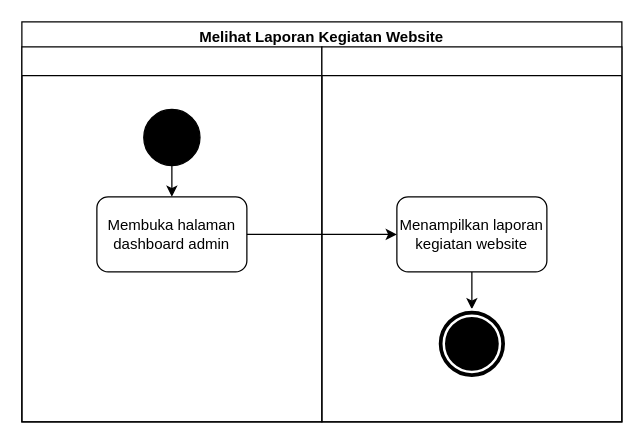
The diagram is 644 pixels wide and 444 high, and some of its shapes have lost their labels. Each missing label, with the box of its shape:
Sistem: (321, 46, 622, 422)
Superuser: (21, 46, 322, 422)
